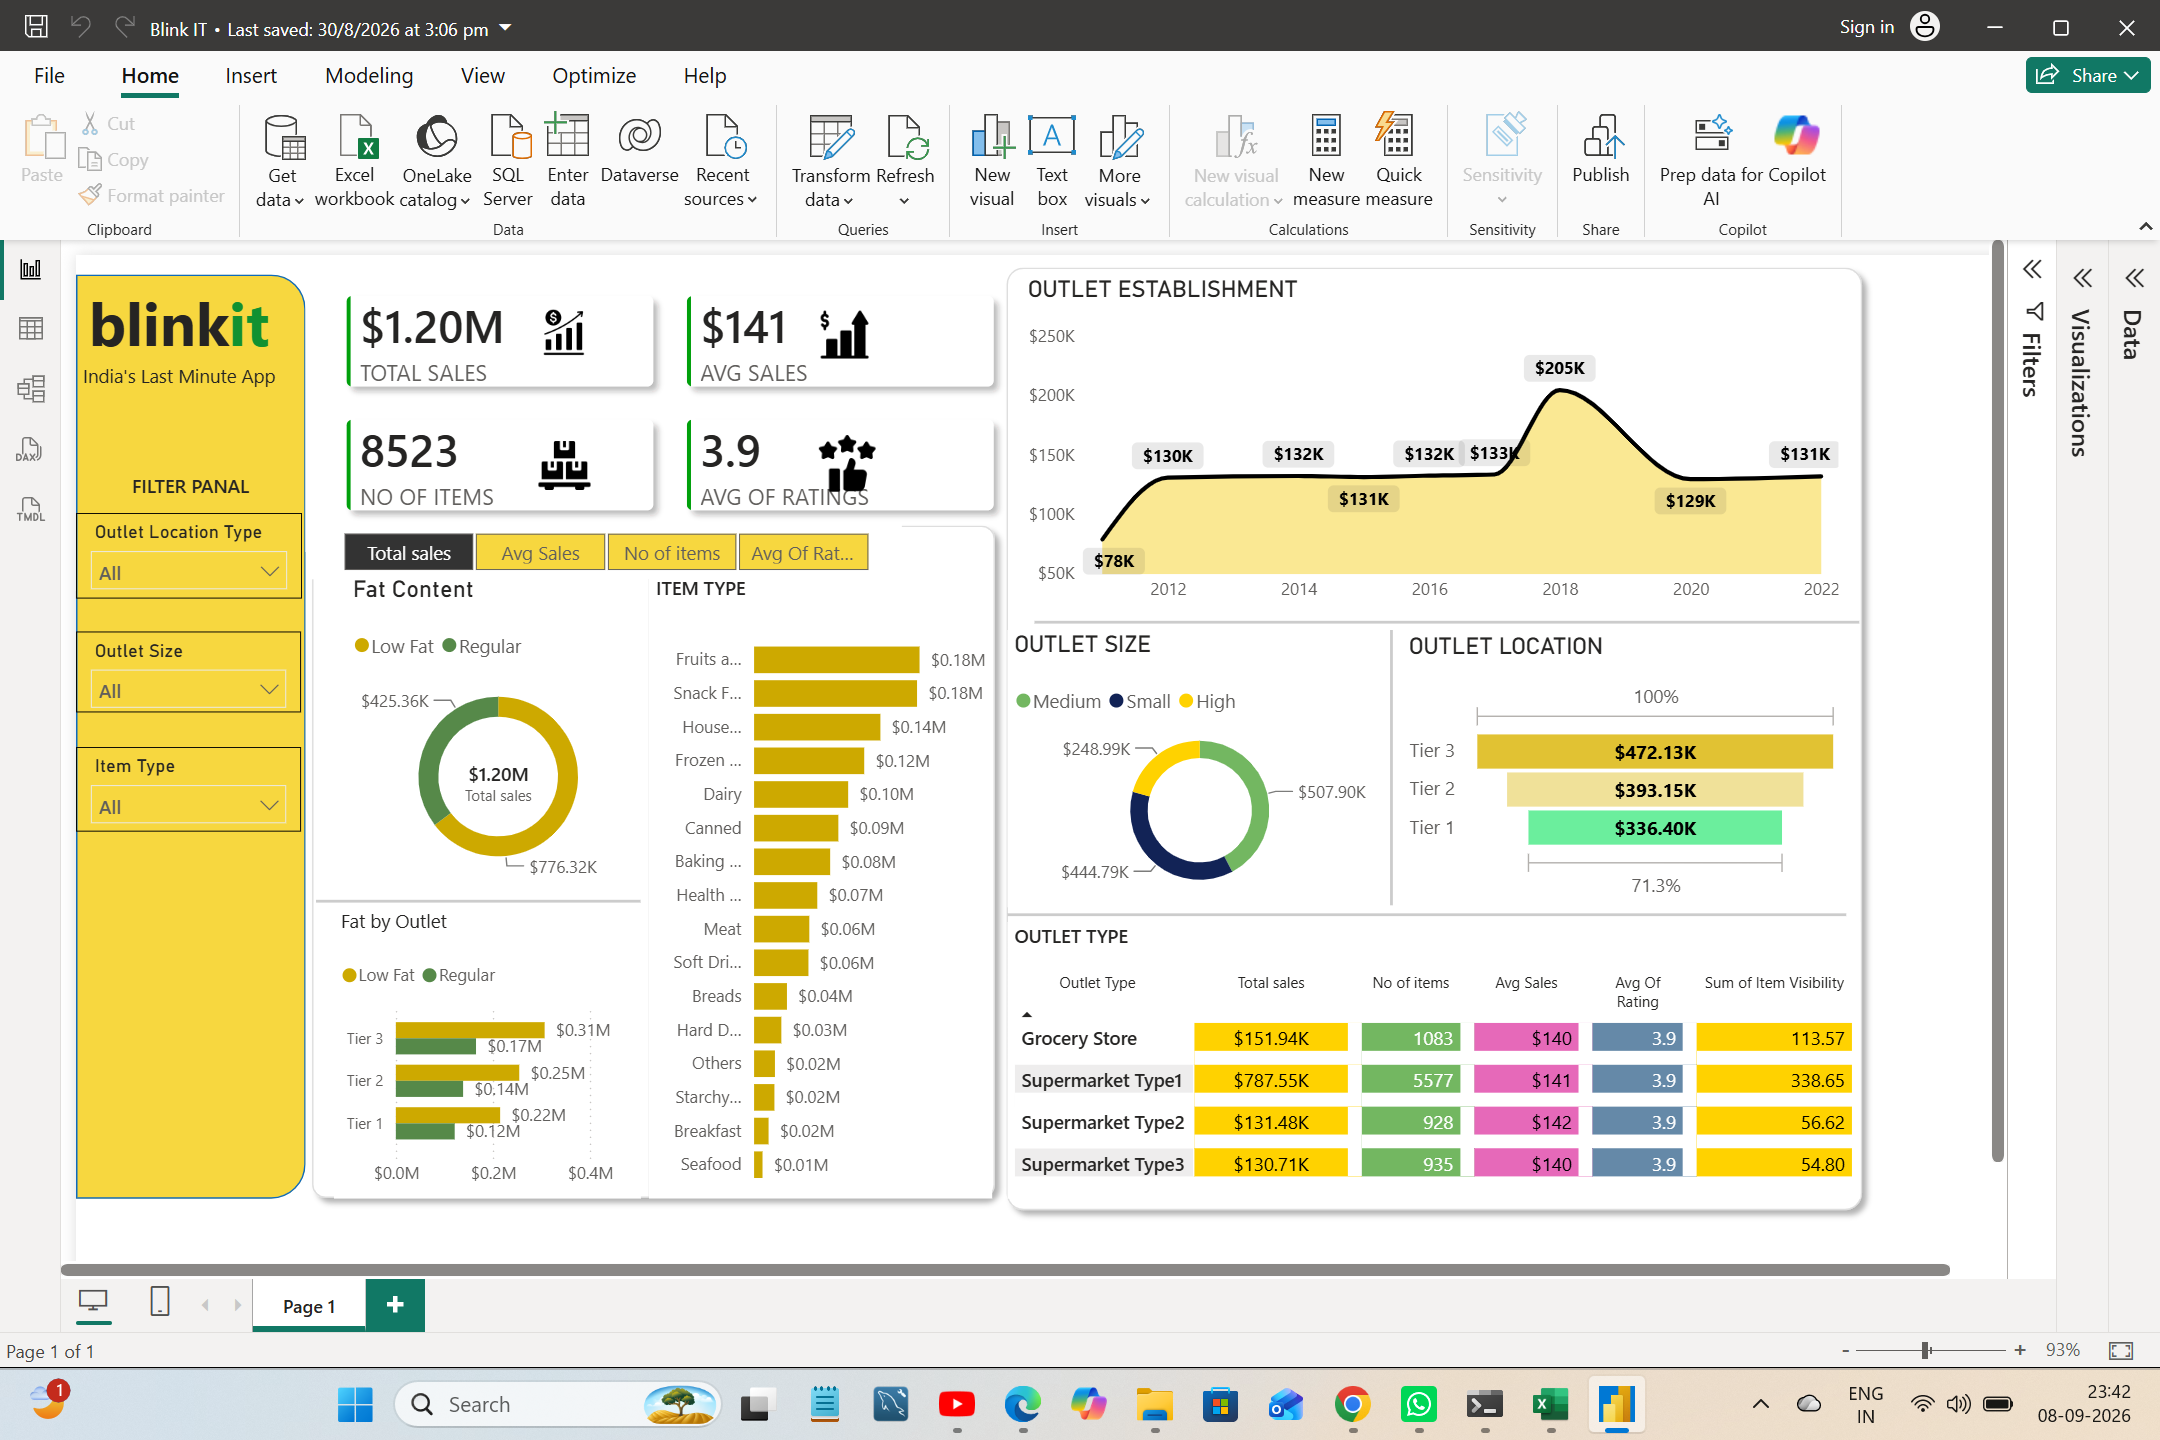

Layout of this report page (visuals, bound fields, positions):
{"tool":"powerbi","page":{"name":"Page 1","canvas":[1400,800],"ordinal":0},"visuals":[{"type":"shape","box":[0,13.5,164.6,662.5],"z":0},{"type":"textbox","box":[4.2,13.5,156.2,76],"z":1000},{"type":"textbox","box":[0,71.9,151,34.4],"z":2000},{"type":"cardVisual","fields":{"Data":["BlinkIT Grocery Data.Total sales","BlinkIT Grocery Data.Avg Sales","BlinkIT Grocery Data.No of items","BlinkIT Grocery Data.Avg Of Rating"]},"box":[165,0,522.5,212.5],"z":3000},{"type":"image","box":[320.8,38.5,58.3,33.3],"z":4000},{"type":"image","box":[528.1,38.5,45.8,36.5],"z":5000},{"type":"image","box":[531.2,129.2,42.7,40.6],"z":6000},{"type":"image","box":[321.9,132.3,57.3,37.5],"z":7000},{"type":"shape","box":[160,185,507.5,500],"z":8000},{"type":"donutChart","title":"Fat Content","fields":{"Category":["BlinkIT Grocery Data.Item Fat Content"],"Y":["BlinkIT Grocery Data.Total sales"]},"box":[193.8,228.8,217.5,230],"z":9000},{"type":"slicer","fields":{"Values":["Metrics.Metrics"]},"box":[166.7,192.7,425,40],"z":10000},{"type":"cardVisual","fields":{"Data":["BlinkIT Grocery Data.Total sales"]},"box":[247.8,344.4,111.1,68.9],"z":11000},{"type":"clusteredBarChart","title":"Fat by Outlet ","fields":{"Y":["BlinkIT Grocery Data.Total sales"],"Category":["BlinkIT Grocery Data.Outlet Location Type"],"Series":["BlinkIT Grocery Data.Item Fat Content"]},"box":[185,467.5,220,208.8],"z":12000},{"type":"shape","box":[172,446,232.7,34],"z":13000},{"type":"shape","box":[405,232.5,12.5,443.8],"z":14000},{"type":"barChart","title":"ITEM TYPE","fields":{"Y":["BlinkIT Grocery Data.Total sales"],"Category":["BlinkIT Grocery Data.Item Type"]},"box":[411.2,228.8,246.2,447.5],"z":15000},{"type":"shape","box":[658.1,0,631.2,693.8],"z":16000},{"type":"lineChart","title":" OUTLET ESTABLISHMENT","fields":{"Y":["BlinkIT Grocery Data.Total sales"],"Category":["BlinkIT Grocery Data.Outlet Establishment Year"]},"box":[677.5,13.8,591.2,243.8],"z":17000},{"type":"shape","box":[687.5,257.5,591.2,12.5],"z":18000},{"type":"donutChart","title":"OUTLET SIZE","fields":{"Y":["BlinkIT Grocery Data.Total sales"],"Category":["BlinkIT Grocery Data.Outlet Size"]},"box":[667.5,268.8,275,198.8],"z":19000},{"type":"shape","box":[935,268.8,15,197.5],"z":20000},{"type":"shape","box":[667.5,466.2,601.2,12.5],"z":21000},{"type":"funnel","title":"OUTLET LOCATION","fields":{"Y":["BlinkIT Grocery Data.Total sales"],"Category":["BlinkIT Grocery Data.Outlet Location Type"]},"box":[950,270,318.8,196.2],"z":22000},{"type":"pivotTable","title":"OUTLET TYPE","fields":{"Rows":["BlinkIT Grocery Data.Outlet Type"],"Values":["BlinkIT Grocery Data.Total sales","BlinkIT Grocery Data.No of items","BlinkIT Grocery Data.Avg Sales","BlinkIT Grocery Data.Avg Of Rating","Sum(BlinkIT Grocery Data.Item Visibility)"]},"box":[668,479,611,198],"z":23000},{"type":"textbox","box":[12.8,150,138.4,27.9],"z":24000},{"type":"slicer","fields":{"Values":["BlinkIT Grocery Data.Outlet Location Type"]},"box":[0,184.9,162,61],"z":25000},{"type":"slicer","fields":{"Values":["BlinkIT Grocery Data.Outlet Size"]},"box":[0,269.8,161.6,58.1],"z":26000},{"type":"slicer","fields":{"Values":["BlinkIT Grocery Data.Item Type"]},"box":[0,352.3,161.6,60.5],"z":27000}]}

Visuals, with their boxes on the page's 1400x800 design canvas (x1, y1, x2, y2). These are canvas units, not pixel positions in the 2160x1440 screenshot, which may show the page scaled, cropped or inside an application window:
shape: 0/14/165/676
textbox: 4/14/160/90
textbox: 0/72/151/106
cardVisual - BlinkIT Grocery Data.Total sales x BlinkIT Grocery Data.Avg Sales: 165/0/688/212
image: 321/38/379/72
image: 528/38/574/75
image: 531/129/574/170
image: 322/132/379/170
shape: 160/185/668/685
"Fat Content" donutChart: 194/229/411/459
slicer - Metrics.Metrics: 167/193/592/233
cardVisual - BlinkIT Grocery Data.Total sales: 248/344/359/413
"Fat by Outlet " clusteredBarChart: 185/468/405/676
shape: 172/446/405/480
shape: 405/232/418/676
"ITEM TYPE" barChart: 411/229/657/676
shape: 658/0/1289/694
" OUTLET ESTABLISHMENT" lineChart: 678/14/1269/258
shape: 688/258/1279/270
"OUTLET SIZE" donutChart: 668/269/942/468
shape: 935/269/950/466
shape: 668/466/1269/479
"OUTLET LOCATION" funnel: 950/270/1269/466
"OUTLET TYPE" pivotTable: 668/479/1279/677
textbox: 13/150/151/178
slicer - BlinkIT Grocery Data.Outlet Location Type: 0/185/162/246
slicer - BlinkIT Grocery Data.Outlet Size: 0/270/162/328
slicer - BlinkIT Grocery Data.Item Type: 0/352/162/413
